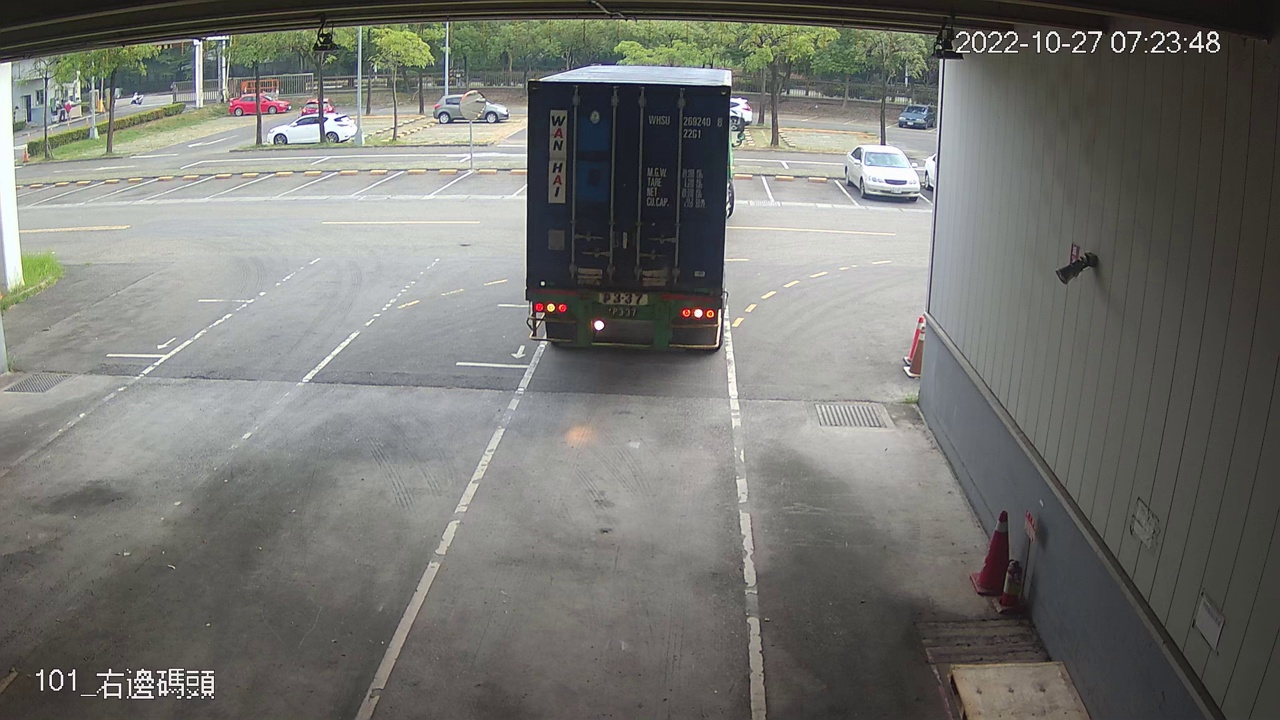container: (646, 110, 726, 143)
